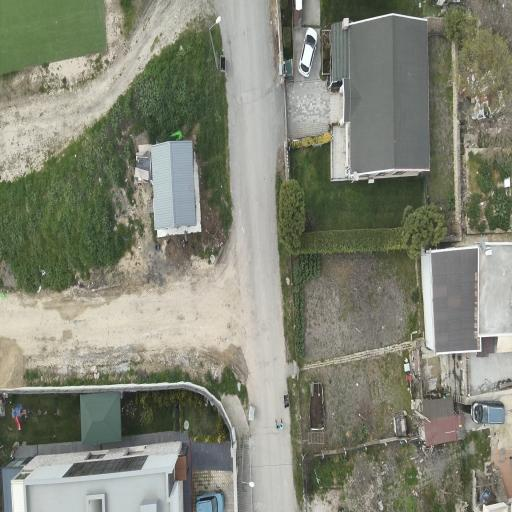car: (299, 28, 317, 77), (471, 401, 505, 424), (196, 492, 224, 511)
